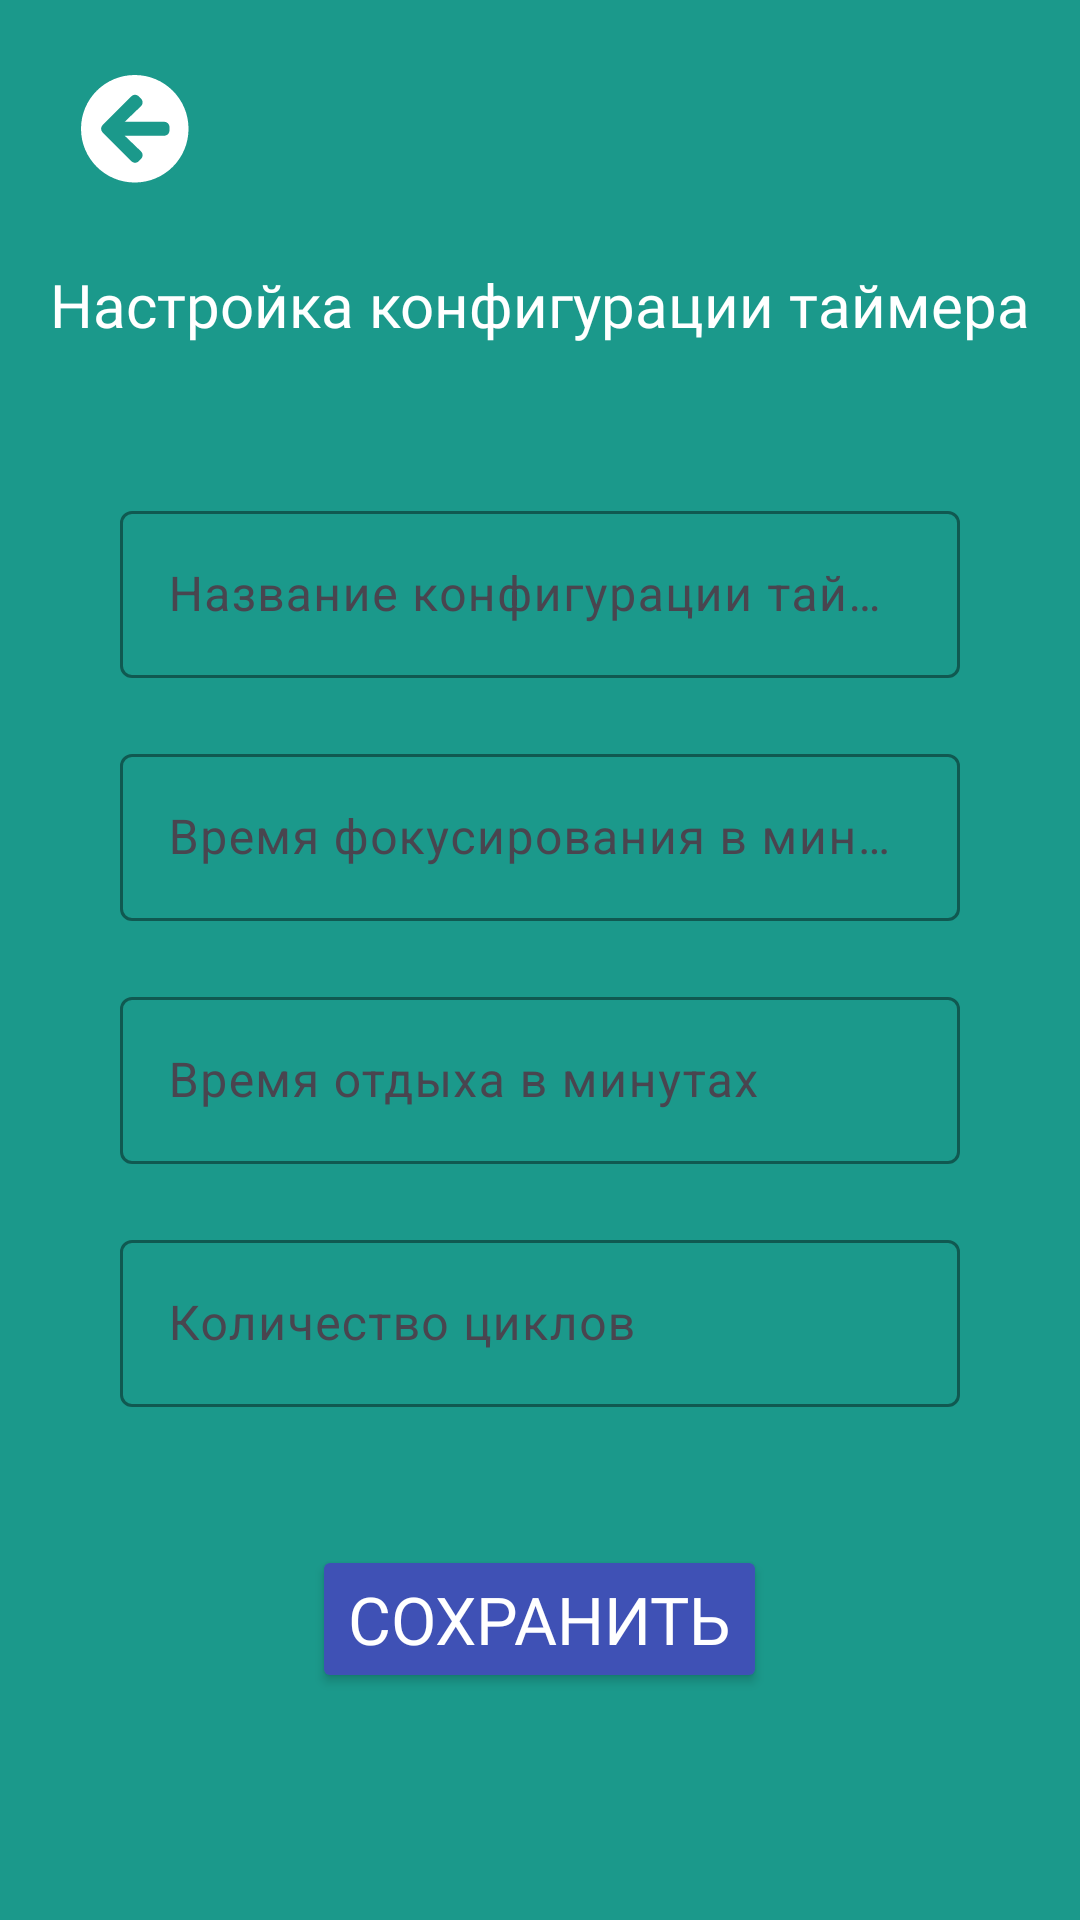

Where to tap for icons on this 1080w x 1920h app screen, as (x,y):
Back button: (135,129)
